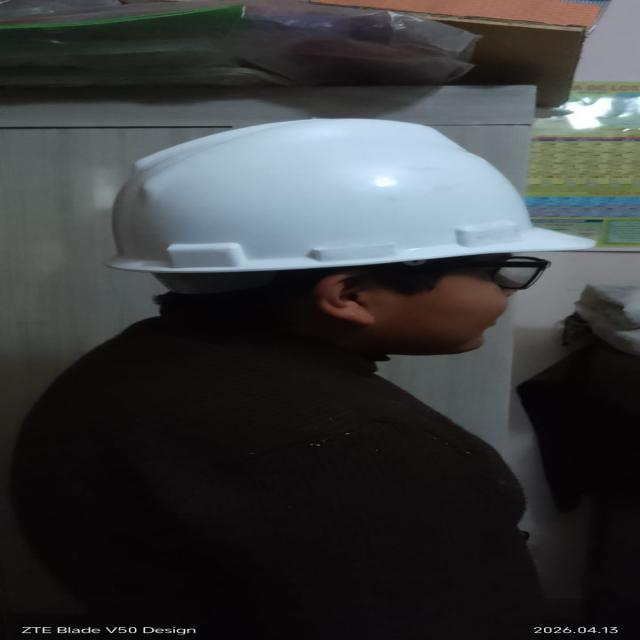casco: (94, 110, 618, 286)
